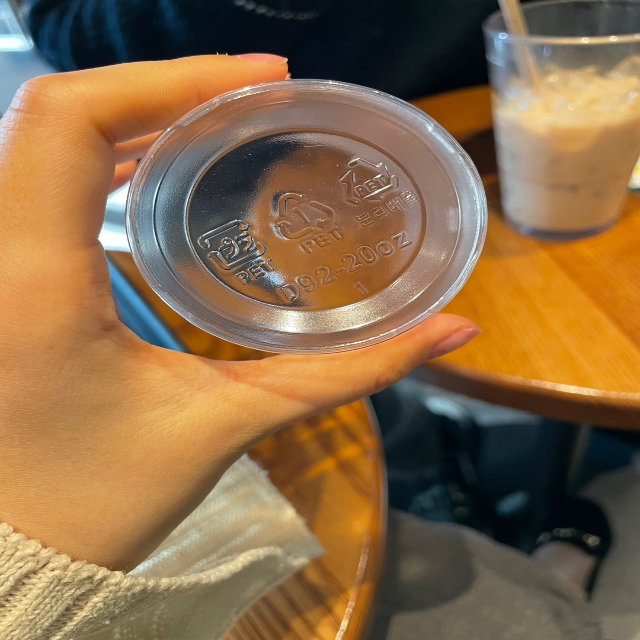pet: (337, 150, 423, 229), (194, 212, 280, 287), (268, 186, 349, 252)
